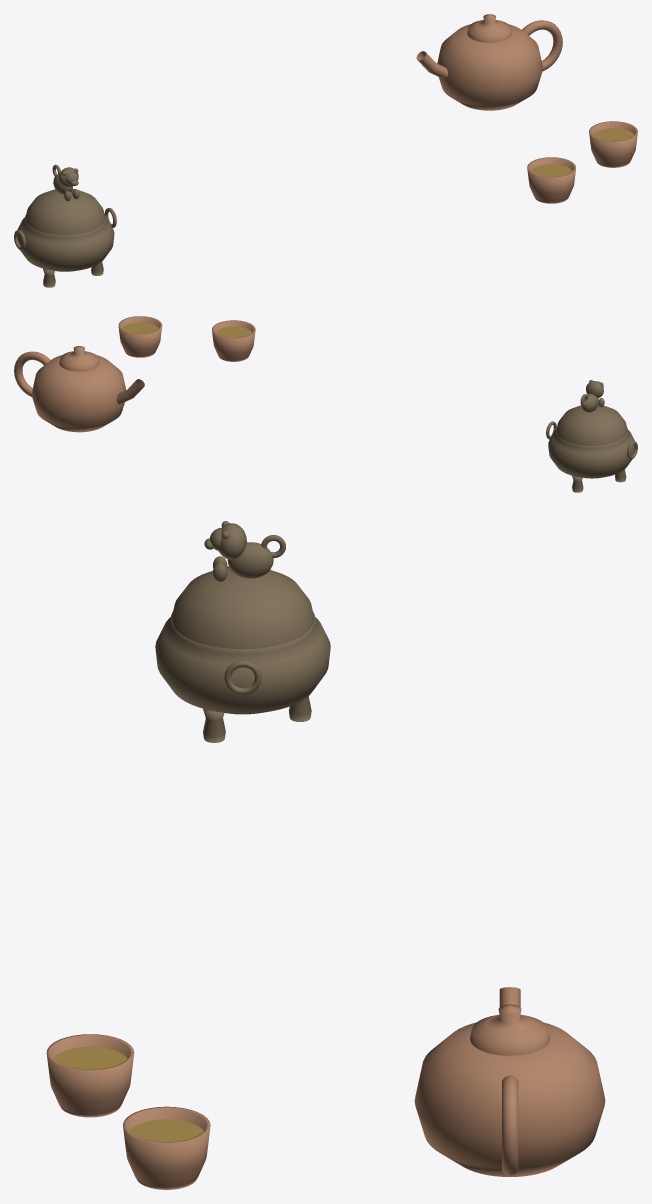
The model's file is mesa_caja_viva.glb.
The picture shows the model from 3 angles, top to bottom: view 1: azimuth 30°, elevation 25°; view 2: azimuth 150°, elevation 25°; view 3: azimuth 270°, elevation 25°; orthographic projection. The views are drawn at different scales.
Visible parts, largest first — view 1: Tetera, Incensario, IncensarioTapa, Taza, Taza.001, TeteraTapa, TeteraAsa, TeteraPico, TazaTe, TazaTe.001; view 2: Tetera, Incensario, IncensarioTapa, Taza.001, Taza, TeteraTapa, TeteraAsa, TeteraPico, TazaTe.001, TazaTe; view 3: Tetera, Incensario, IncensarioTapa, Taza, Taza.001, TeteraTapa, TeteraAsa, TazaTe, TazaTe.001, LeonCuerpo.
Boxes of the visible parts, x1,y1,x2,y2 form: Tetera: [437, 24, 542, 110]; Incensario: [17, 214, 114, 271]; IncensarioTapa: [25, 189, 105, 235]; Taza: [527, 157, 575, 203]; Taza.001: [589, 121, 637, 167]; TeteraTapa: [467, 14, 511, 42]; TeteraAsa: [522, 20, 562, 70]; TeteraPico: [416, 51, 447, 79]; TazaTe: [531, 164, 572, 176]; TazaTe.001: [593, 128, 633, 140]; Tetera: [31, 355, 125, 432]; Incensario: [548, 427, 634, 478]; IncensarioTapa: [556, 405, 627, 445]; Taza.001: [118, 316, 162, 357]; Taza: [212, 320, 255, 361]; TeteraTapa: [59, 346, 99, 371]; TeteraAsa: [14, 351, 50, 396]; TeteraPico: [116, 379, 144, 404]; TazaTe.001: [122, 322, 158, 333]; TazaTe: [215, 326, 252, 337]; Tetera: [414, 1022, 605, 1176]; Incensario: [155, 612, 330, 714]; IncensarioTapa: [171, 566, 314, 649]; Taza: [46, 1034, 134, 1117]; Taza.001: [123, 1106, 210, 1189]; TeteraTapa: [470, 1004, 549, 1055]; TeteraAsa: [502, 1075, 518, 1175]; TazaTe: [53, 1046, 127, 1069]; TazaTe.001: [129, 1119, 203, 1141]; LeonCuerpo: [227, 542, 273, 578].
Bounding box in the file's own units: 0.6692 × 0.1115 × 0.293.
